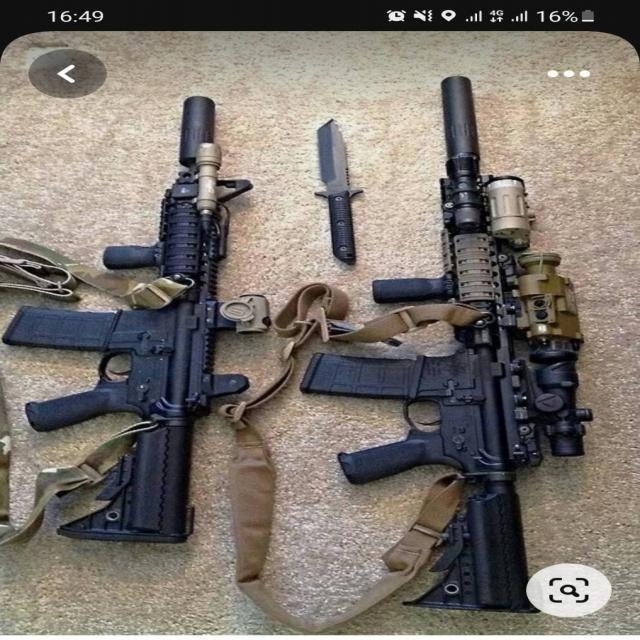m16: (365, 101, 598, 539)
